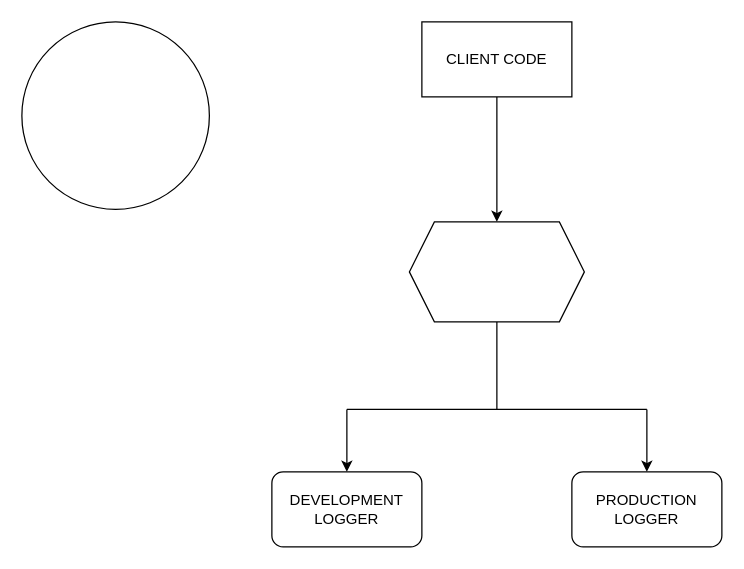
This 744x569 diagram has some shape labels left out. The centre of each missing label's shape, as x and y in pixels:
"ABSTRACT FACTORY PATTERN" goes at pixel 115 115.
"LOGGER FACTORY" goes at pixel 496 271.
